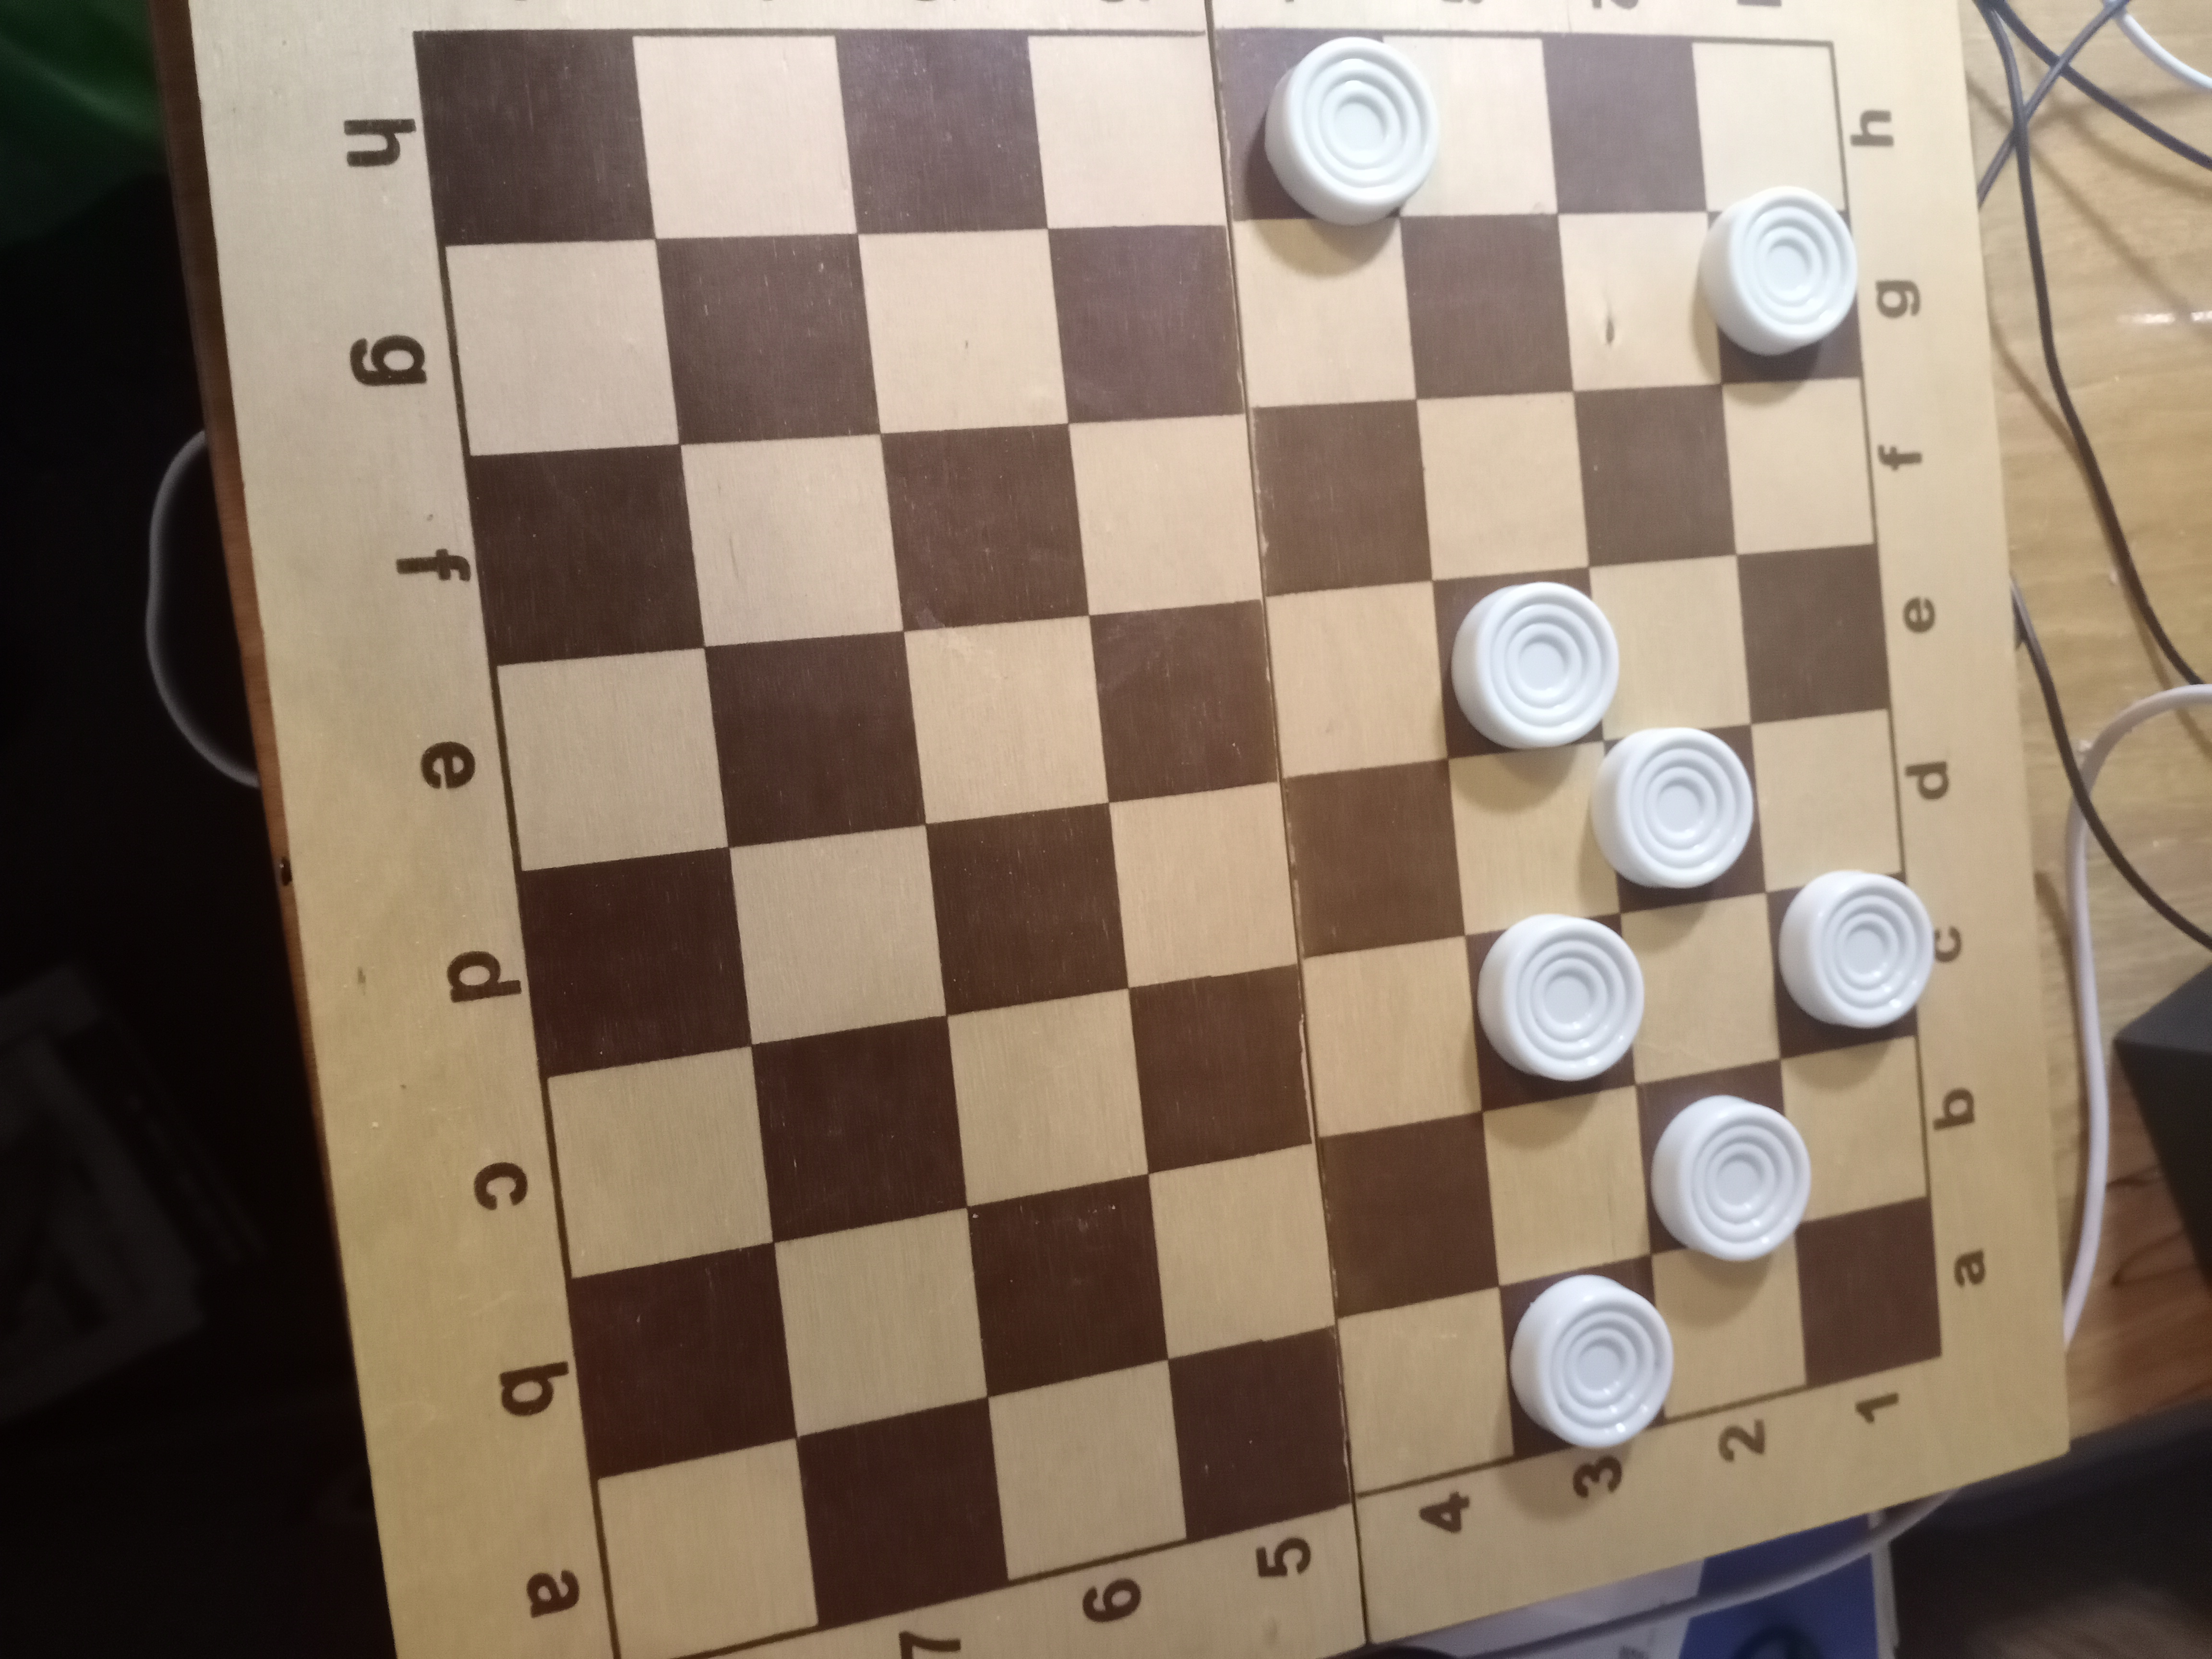White_Draught: (1212, 28, 1440, 227), (1465, 913, 1646, 1114), (1637, 1060, 1813, 1262), (1433, 570, 1620, 758), (1500, 1256, 1676, 1455), (1588, 725, 1768, 915), (1695, 186, 1862, 385), (1766, 871, 1935, 1060)
